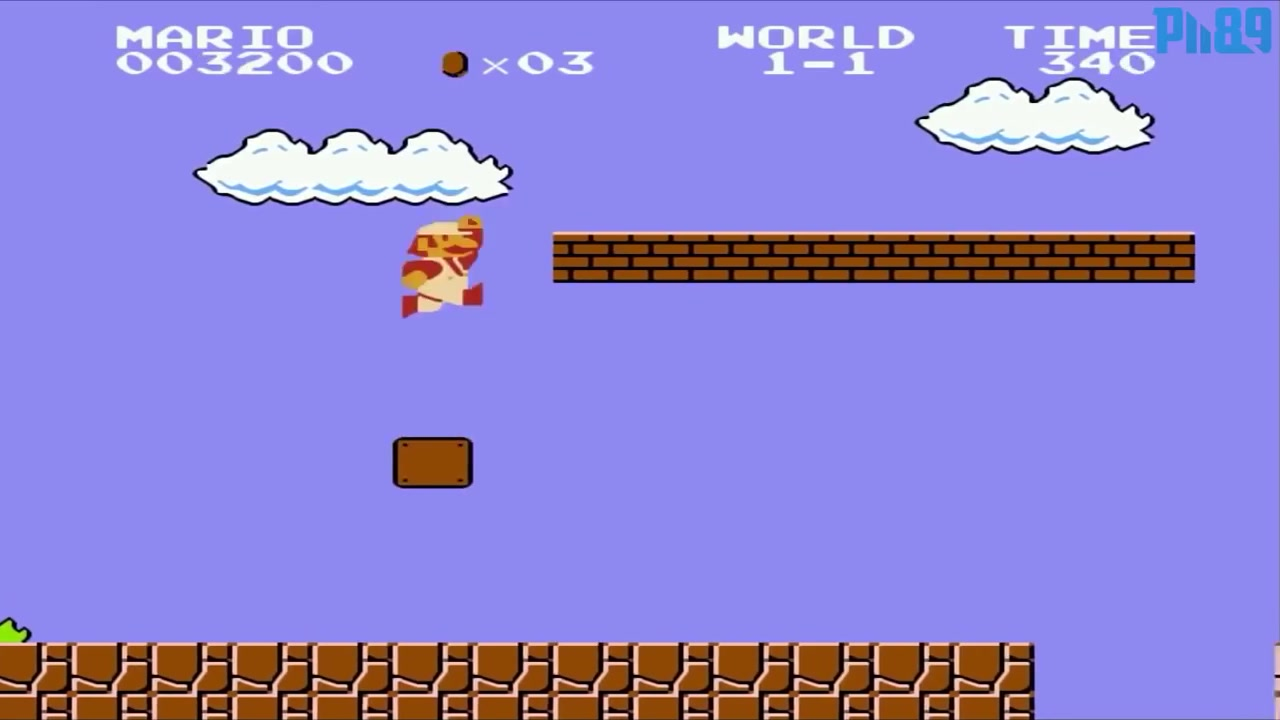mario: (398, 217, 489, 335)
